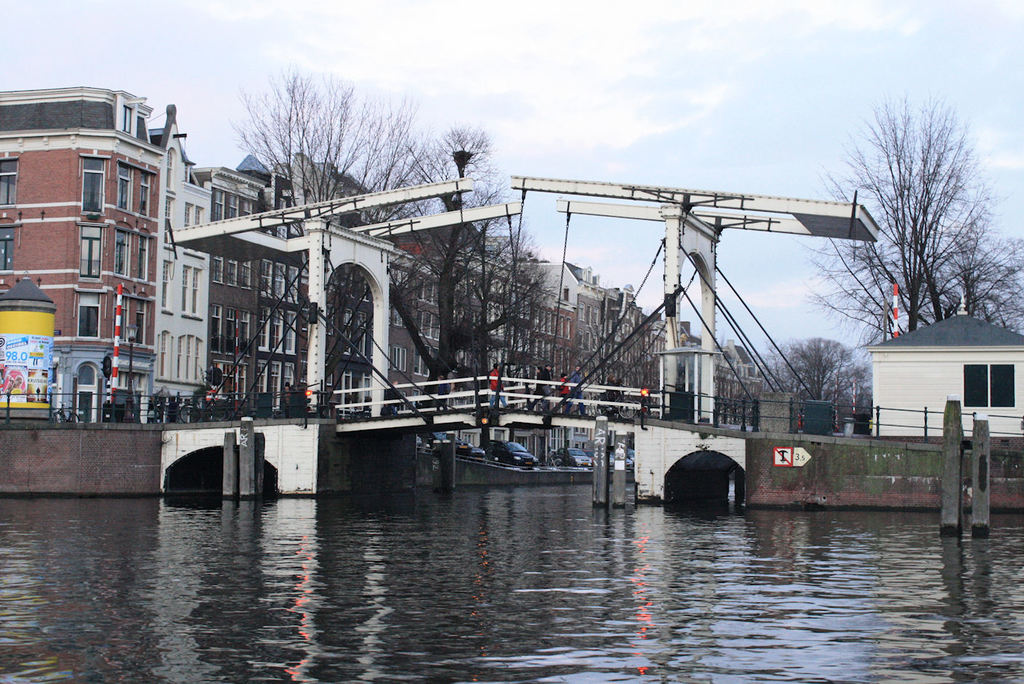Tree: (349, 143, 528, 406), (841, 82, 984, 368), (317, 90, 446, 291), (229, 65, 322, 299), (949, 227, 1023, 366), (580, 299, 653, 422), (770, 338, 877, 408)
